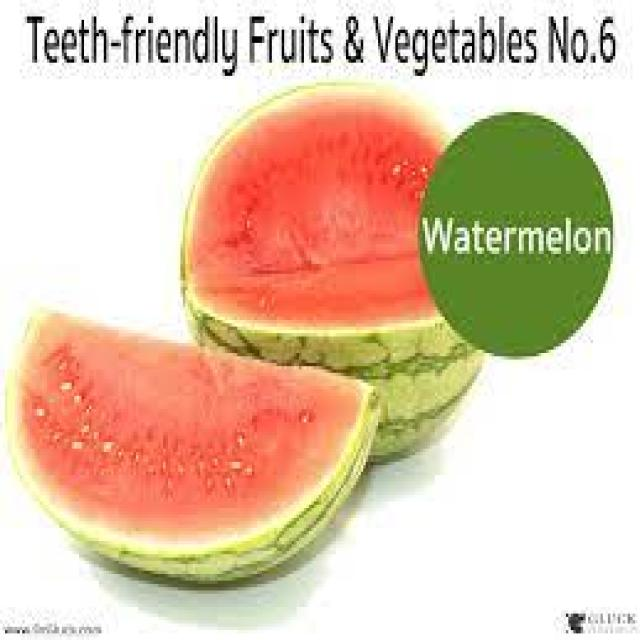watermelon: (178, 79, 487, 462), (2, 303, 380, 584)
